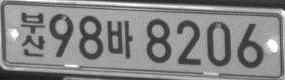0: (206, 20, 232, 66)
2: (177, 20, 202, 65)
6: (236, 23, 264, 68)
8: (145, 17, 171, 62), (78, 15, 103, 59)
9: (48, 12, 74, 58)
바: (107, 20, 133, 59)
부산_V: (20, 12, 46, 57)
